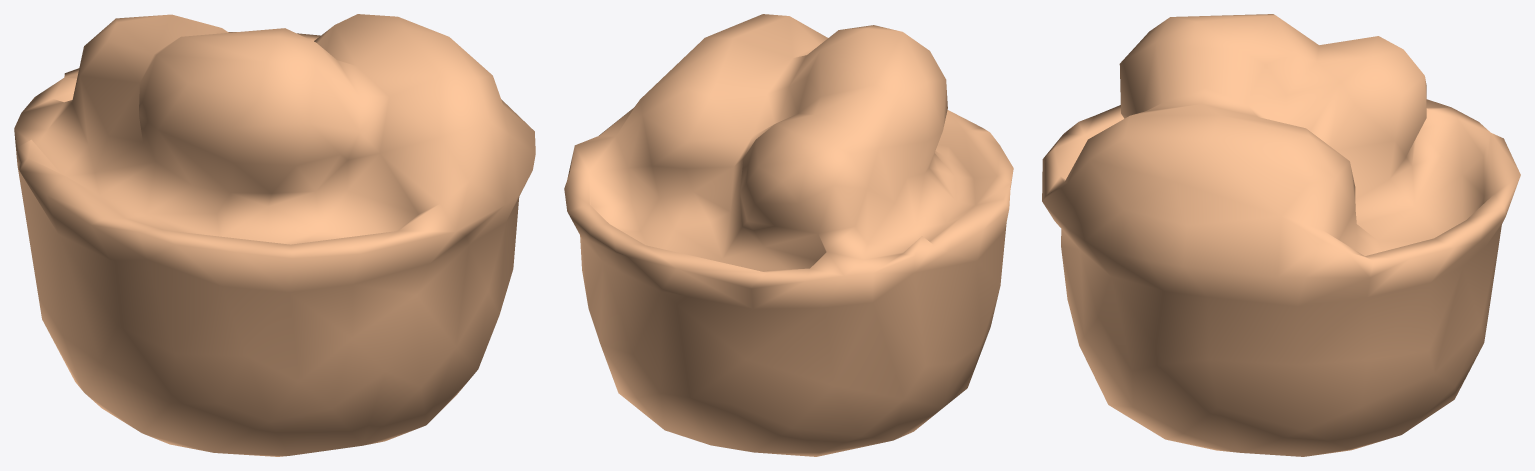
3 views of the same model, side by side, from view 1: azimuth 30°, elevation 25°; view 2: azimuth 150°, elevation 25°; view 3: azimuth 270°, elevation 25° (orthographic). The views are drawn at different scales.
Visible parts, largest first — view 1: 짜임 바구니; view 2: 짜임 바구니; view 3: 짜임 바구니.
Boxes of the visible parts, x1,y1,x2,y2 form: 짜임 바구니: (14,14,535,456); 짜임 바구니: (564,14,1013,456); 짜임 바구니: (1042,14,1520,456).
Size of the model in its own units: 0.3245 by 0.2713 by 0.3344.
1 material, 1 textured.
